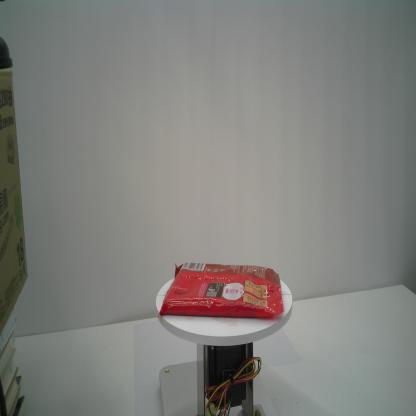Dessert: (158, 261, 284, 319)
